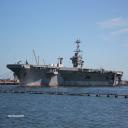Portanaves: (6, 38, 125, 88)
